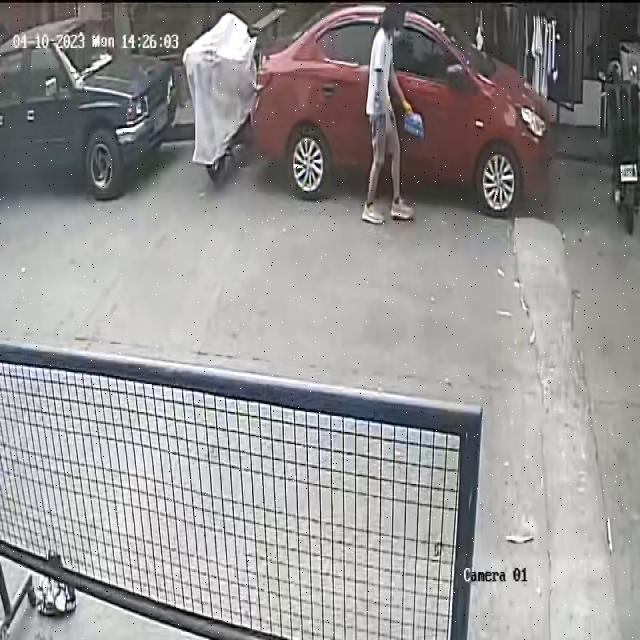human: (362, 5, 426, 225)
trash: (405, 100, 427, 140)
